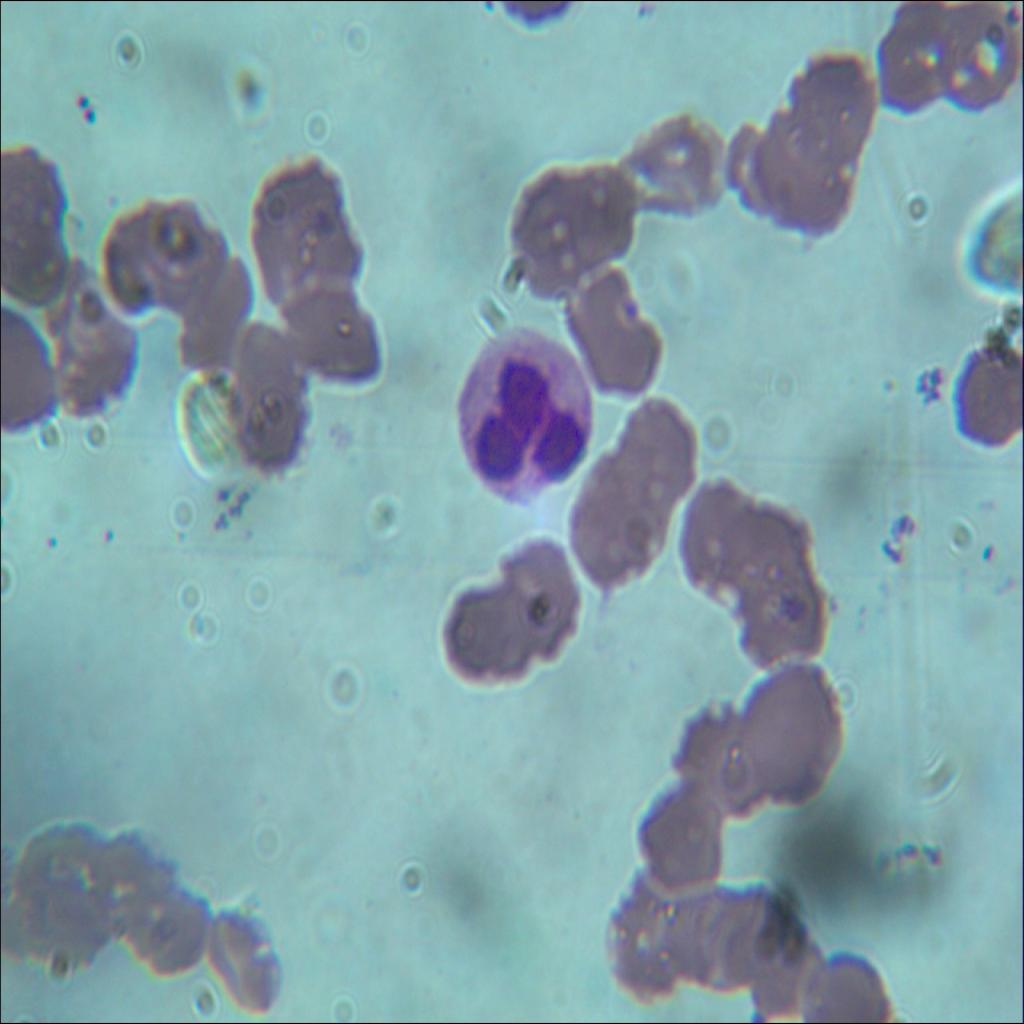Eritrosit: (249, 158, 362, 308), (506, 159, 636, 285), (15, 815, 116, 975), (748, 658, 844, 804), (223, 319, 308, 475), (280, 268, 386, 390), (566, 271, 666, 399), (758, 114, 858, 238), (606, 398, 700, 526), (578, 458, 666, 592), (781, 52, 876, 174), (496, 531, 581, 665), (624, 108, 720, 225), (742, 904, 836, 1022), (51, 282, 134, 410), (738, 567, 838, 672), (678, 476, 758, 605), (440, 581, 534, 688), (170, 252, 253, 372), (206, 892, 286, 1015), (634, 784, 724, 892), (680, 705, 763, 822), (874, 0, 956, 115), (91, 826, 168, 944), (100, 198, 176, 315), (0, 184, 70, 311), (935, 0, 1011, 115), (698, 884, 778, 992), (129, 882, 210, 986), (715, 508, 808, 598), (950, 332, 1024, 444), (601, 888, 676, 998), (148, 192, 223, 298), (798, 948, 891, 1023), (722, 124, 788, 218), (662, 889, 724, 979)
Neutrofil: (450, 318, 596, 505)
Platelet: (42, 528, 72, 567), (971, 537, 1000, 574), (615, 288, 641, 327), (896, 504, 920, 541), (98, 514, 120, 552), (230, 485, 249, 524), (74, 86, 95, 120), (876, 372, 898, 404), (881, 534, 903, 561), (216, 508, 230, 538), (209, 479, 230, 499)
